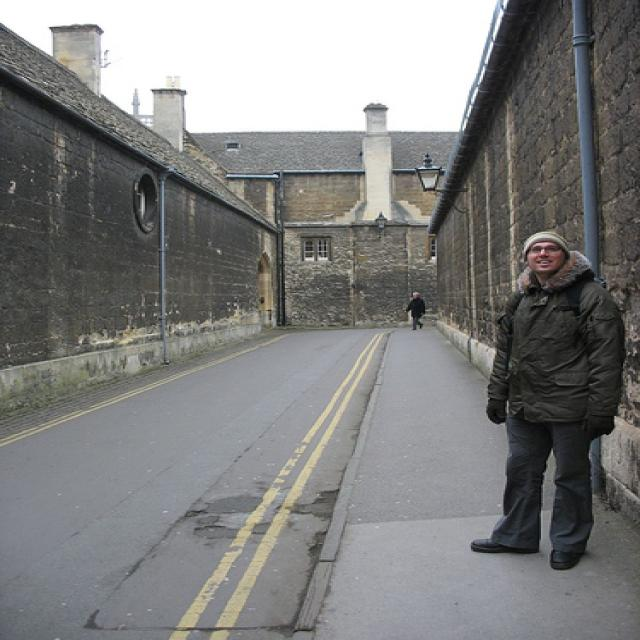person: (472, 232, 626, 574), (402, 292, 428, 331)
